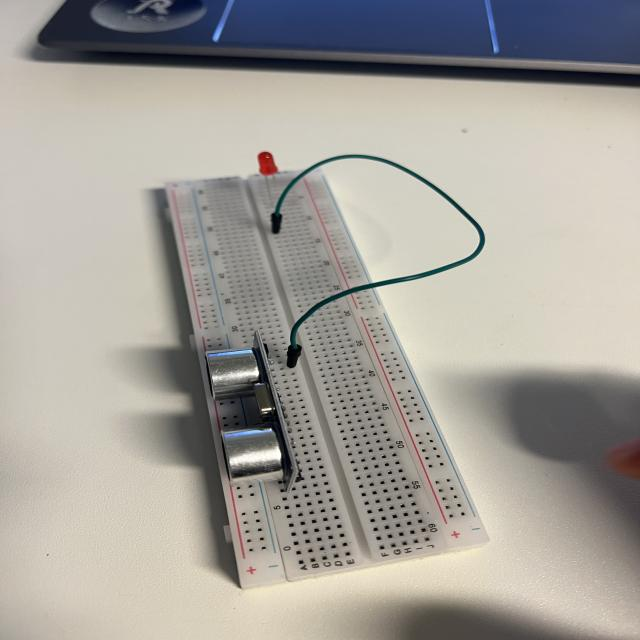BreadBoard: (172, 171, 489, 590)
REDLed: (249, 150, 289, 206)
UltrasoneSensor: (194, 333, 320, 500)
